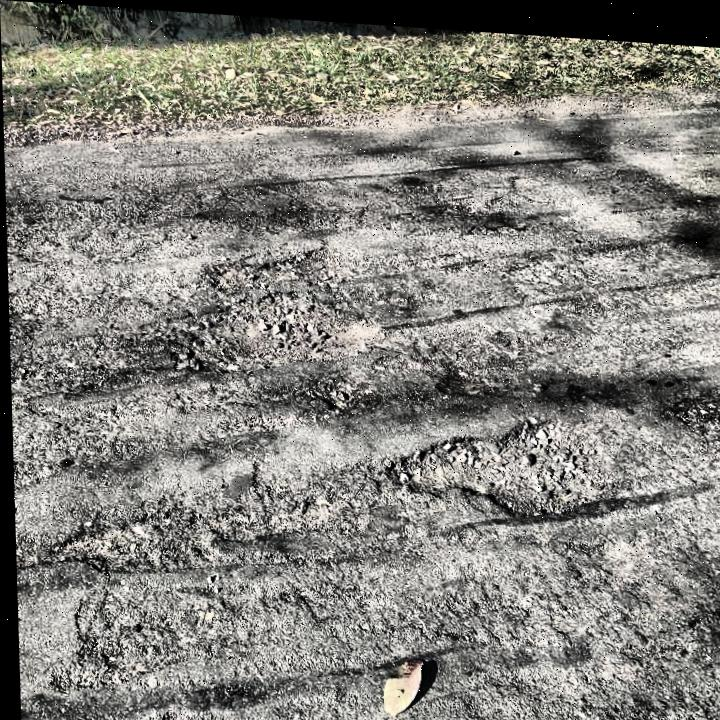pothole: (167, 248, 371, 383), (378, 396, 610, 513)
